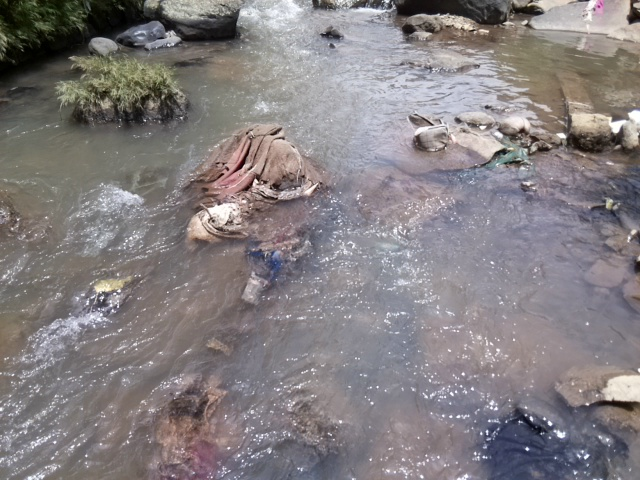Sampah_Plastik: (187, 131, 312, 259)
